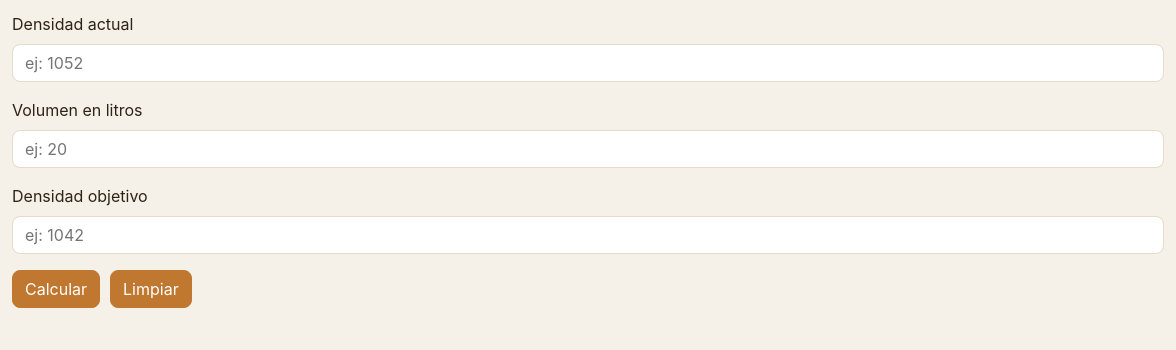
Test: WaterDilution › limpiar borra resultado y los tres campos
Type "1052" into the field with placeholder "ej: 1052" at (588, 63), box [12, 44, 1164, 82]
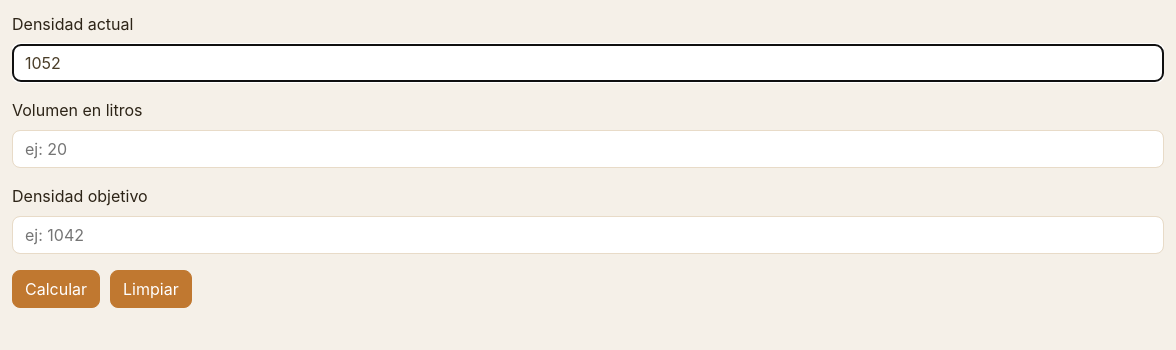
Type "20" into the field with placeholder "ej: 20" at (588, 149), box [12, 130, 1164, 168]
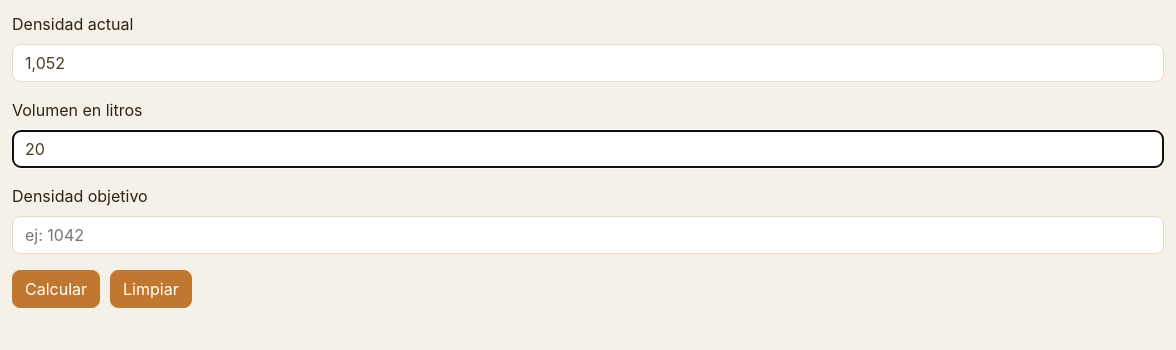
Type "1042" into the field with placeholder "ej: 1042" at (588, 235), box [12, 216, 1164, 254]
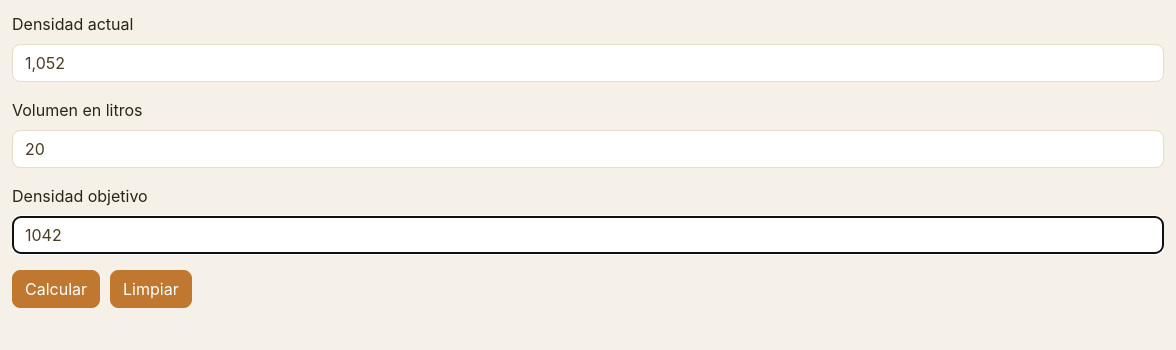
Click the button "Calcular" at (56, 289), box [12, 270, 100, 308]
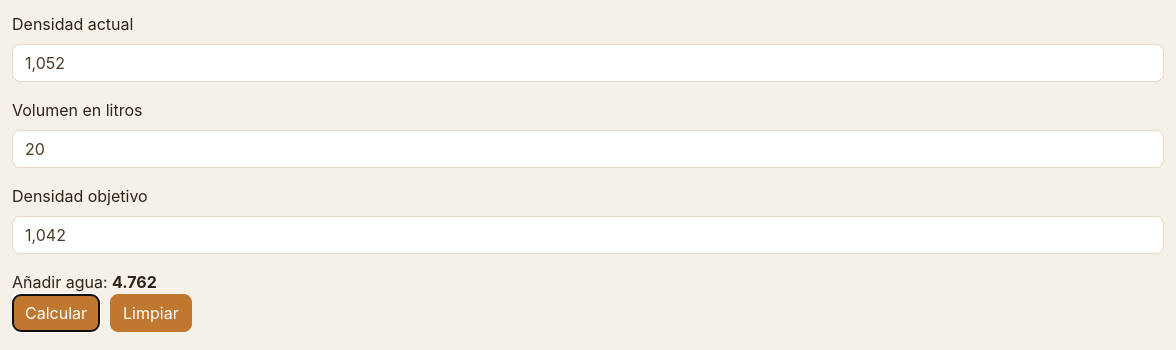
Now the text "Añadir agua: 4.762" is shown, box [12, 272, 157, 292]
Click the button "Limpiar" at (151, 313), box [110, 294, 192, 332]
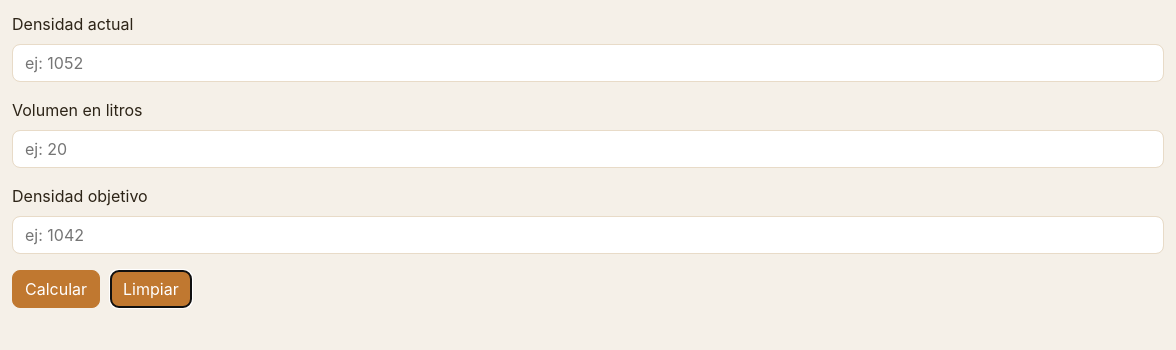
Now the text "Añadir agua" is gone
Now the field with placeholder "ej: 1052" is empty, box [12, 44, 1164, 82]
Now the field with placeholder "ej: 20" is empty, box [12, 130, 1164, 168]
